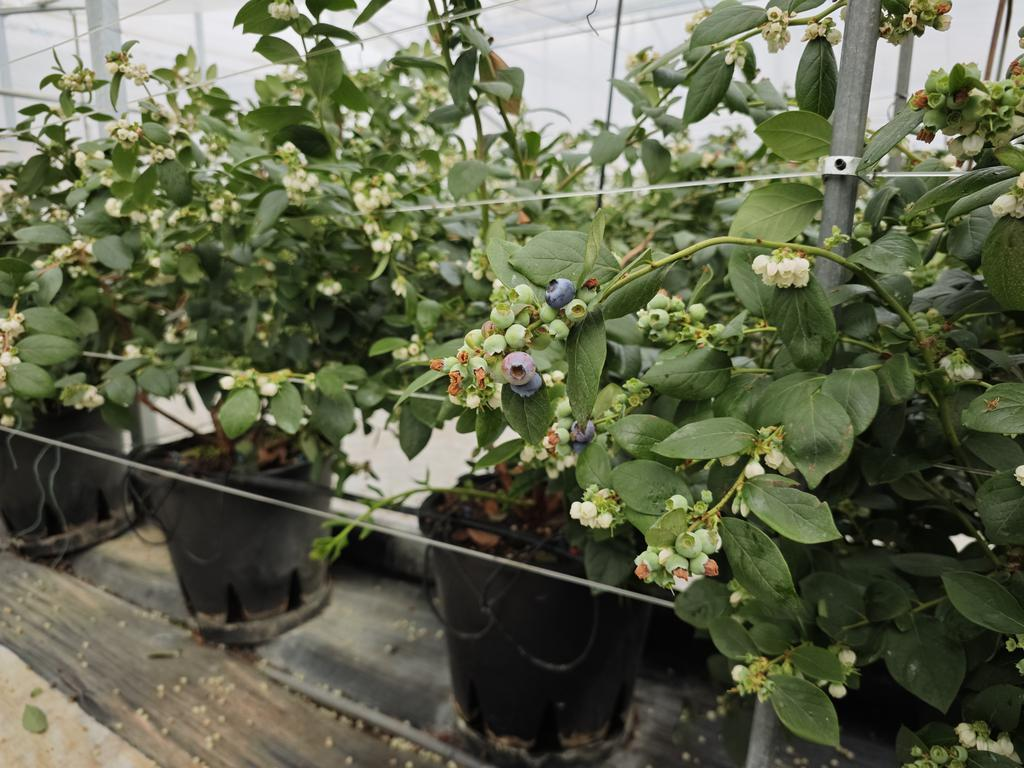RipeBlueBerry: (543, 277, 575, 308)
Semi-RipeBlueBerry: (500, 351, 536, 387)
UnripeBlueBerry: (675, 530, 704, 560)
